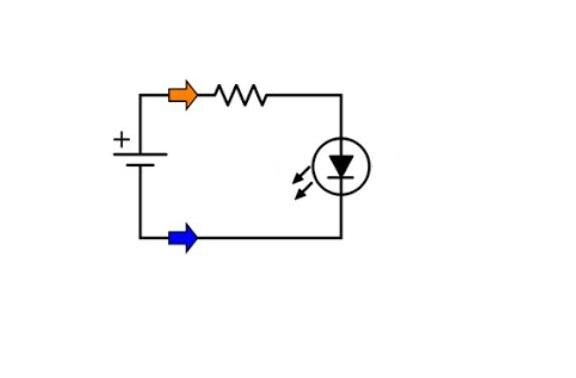resistor: (202, 75, 273, 116)
